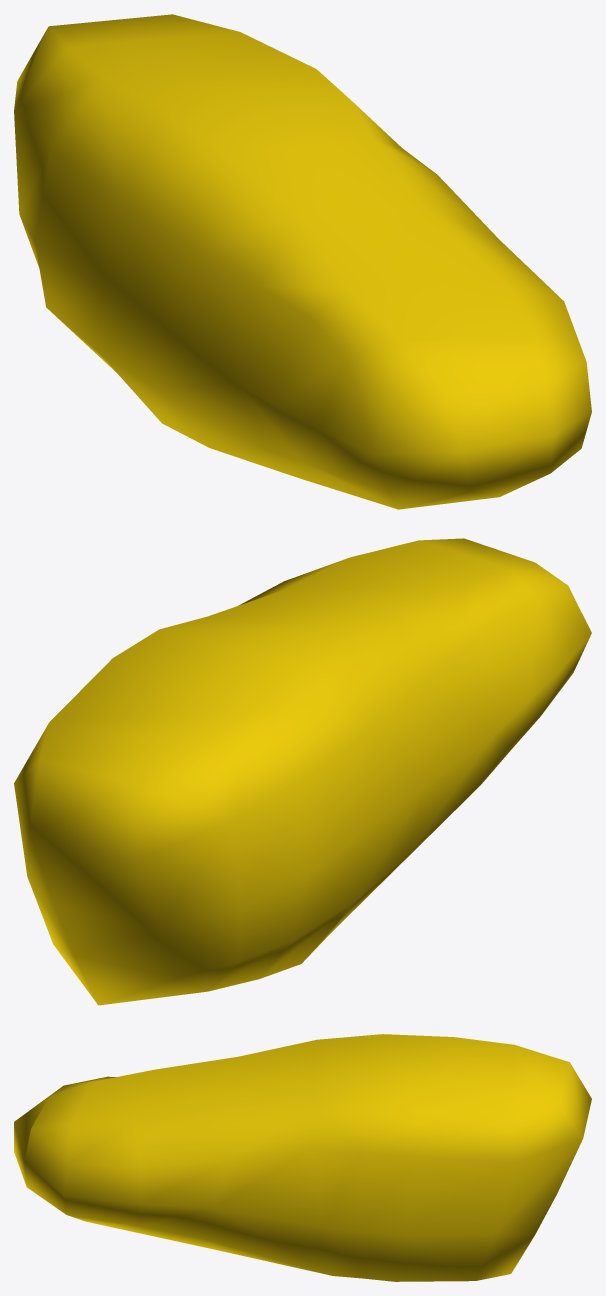
Rendered from Rock_Small_01_Lod1.fbx.
3 renders of one model, top to bottom at view 1: azimuth 30°, elevation 25°; view 2: azimuth 150°, elevation 25°; view 3: azimuth 270°, elevation 25°, orthographic. The views are drawn at different scales.
Parts seen in each view (by area): view 1: Rock_Small_01_Lod1; view 2: Rock_Small_01_Lod1; view 3: Rock_Small_01_Lod1.
Part boxes in pixels (x1,y1,x2,y2): Rock_Small_01_Lod1: (14, 14, 591, 509); Rock_Small_01_Lod1: (14, 538, 591, 1005); Rock_Small_01_Lod1: (14, 1034, 591, 1281).
Bounding box in the file's own units: 708 × 756 × 1885.
